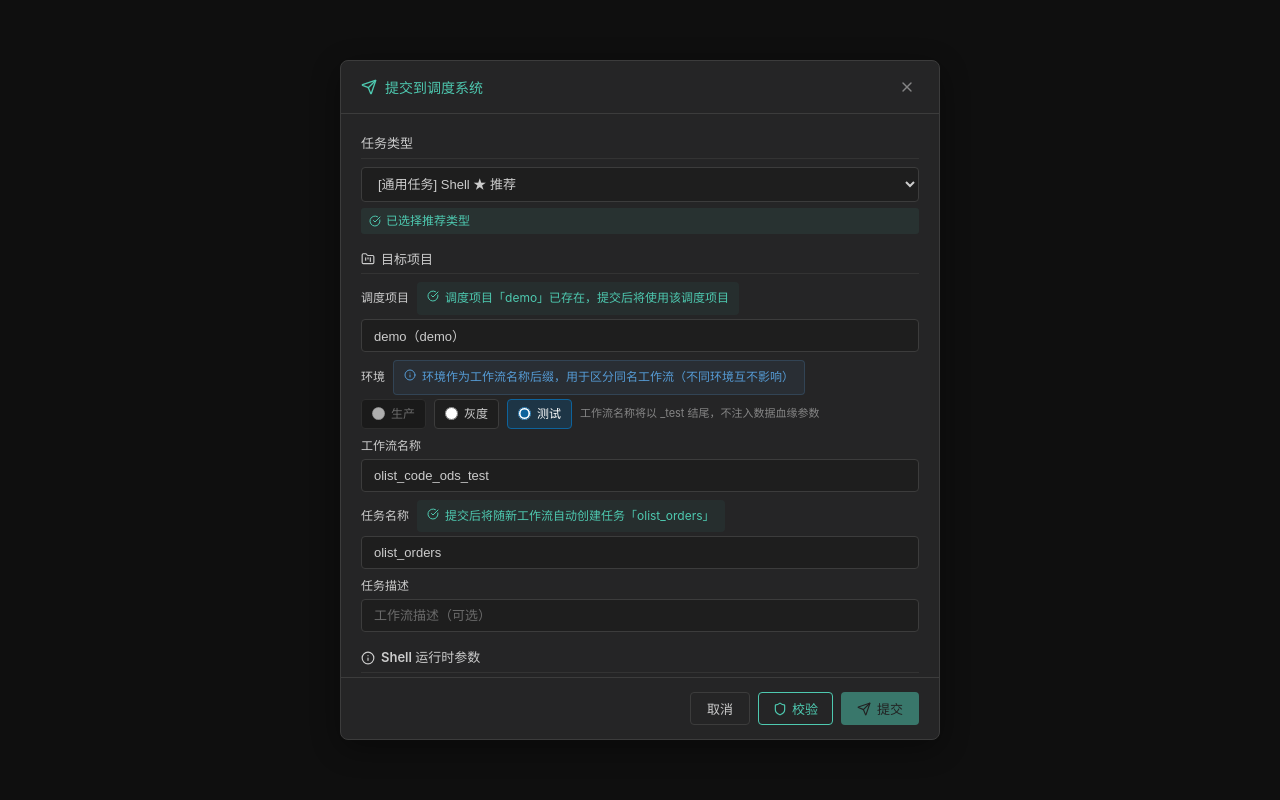
Scenario: SubmitToSchedulerModal — 角色准入（生产仅运维/超管） › 无提交调度权限时校验拦截并提示，提交按钮保持禁用
The image size is (1280, 800).
Expected: the field with test id "submit-scheduler-workflow-name" holds "olist_code_ods_test", [361,459,919,492]
Press the mouse on the button "校验" at (796, 708), box [758,692,833,725]
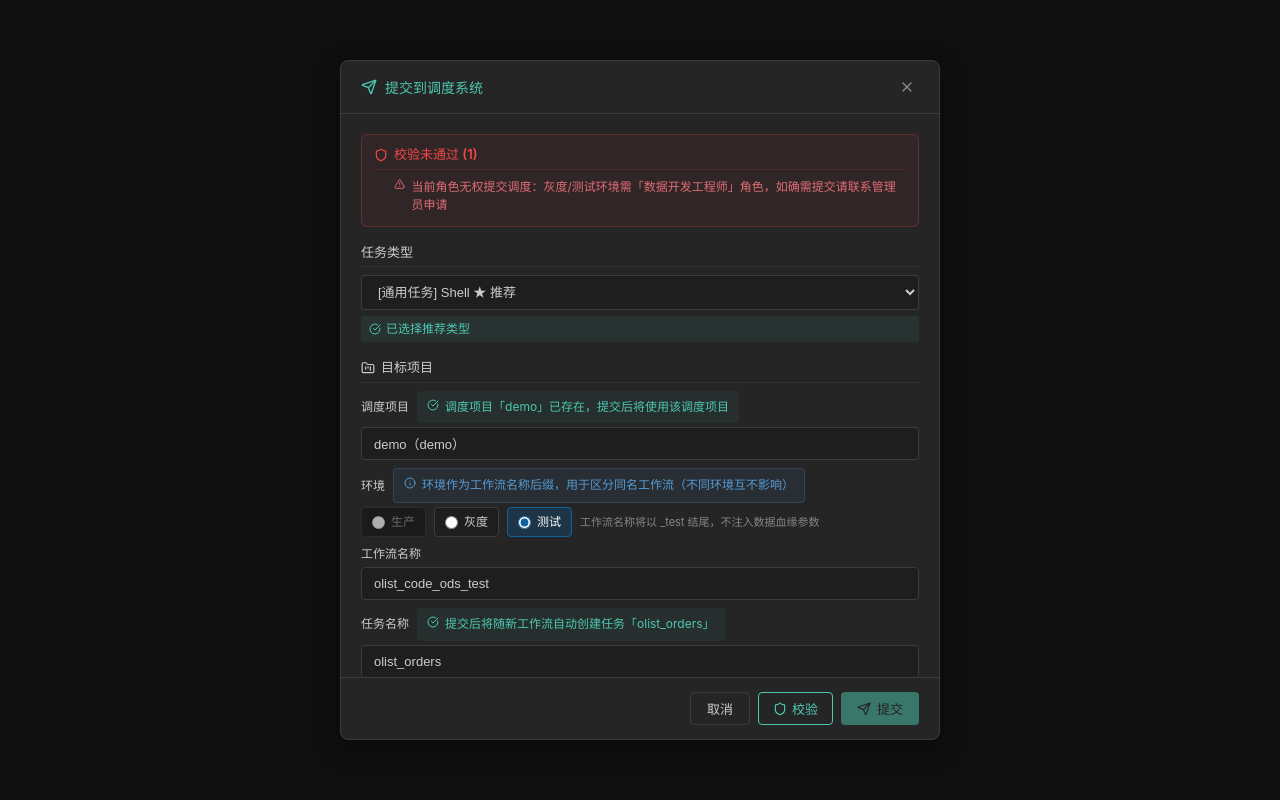
Expected: the button with class "submit-scheduler__submit-btn" is disabled, [841,692,919,725]
Expected: the text "当前角色无权提交调度" is shown, [411,178,896,212]
Expected: the text "数据开发工程师" is shown, [411,178,896,212]
